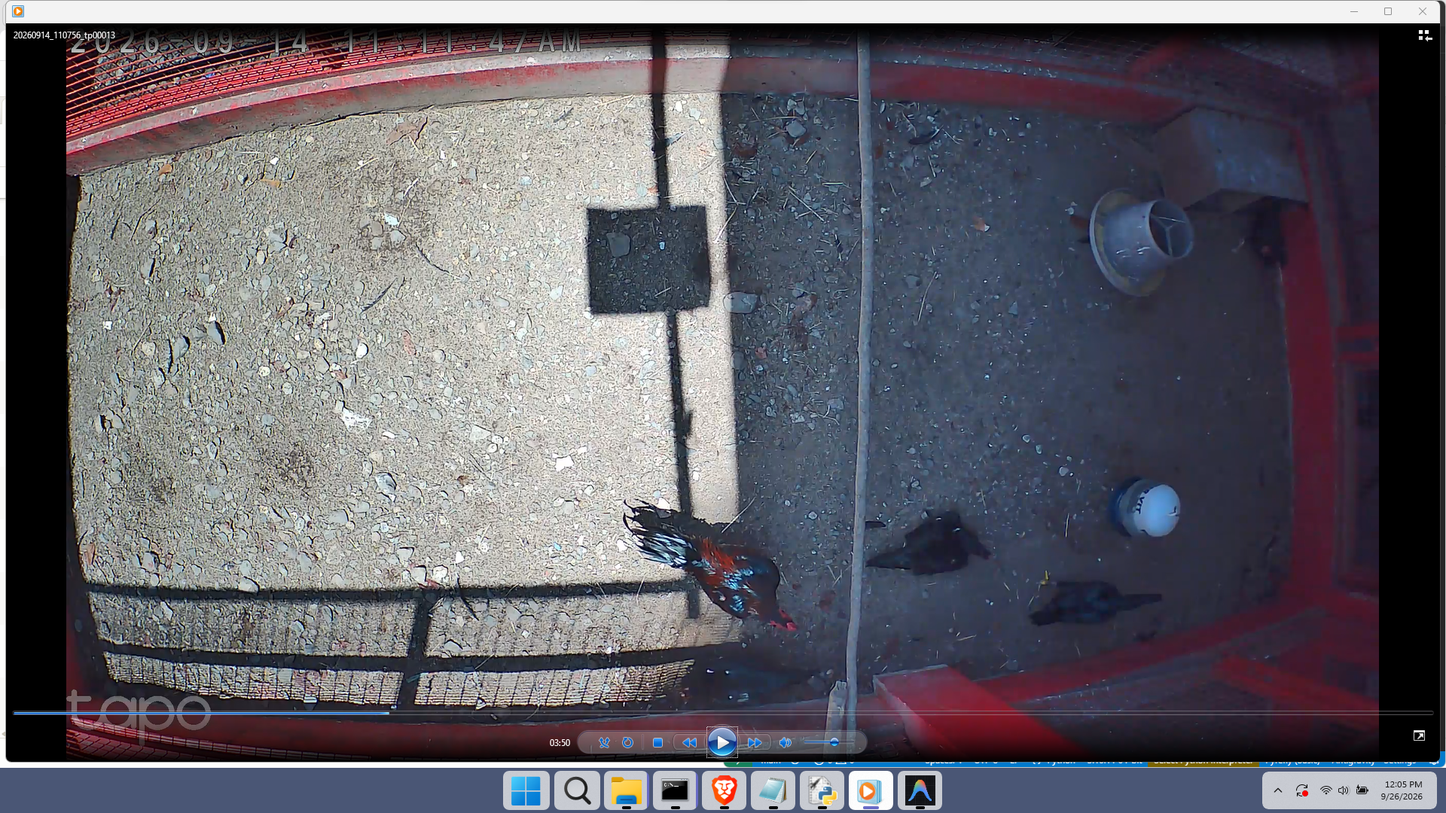Chicken: (862, 513, 1000, 581), (1030, 569, 1168, 634), (1229, 203, 1297, 276)
Drinker: (1109, 473, 1181, 540)
Feeder: (1088, 185, 1195, 297)
Leg_Band_Yellow: (1041, 570, 1049, 585)
Rooster: (629, 528, 804, 639)
